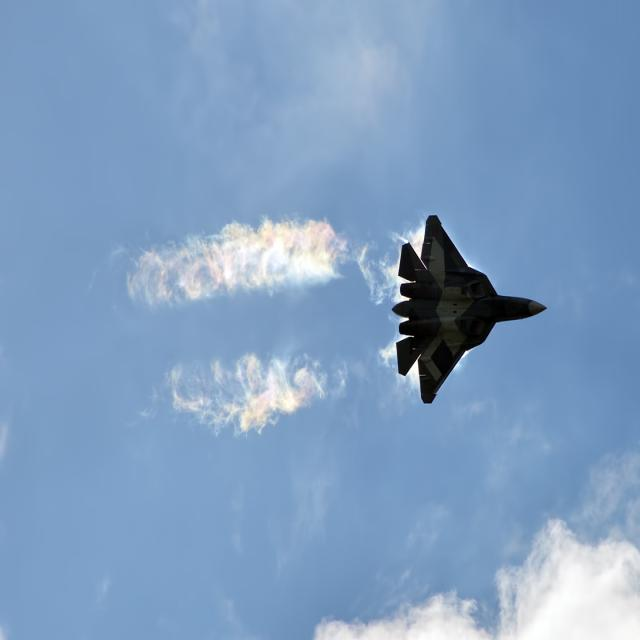MIL_Plane: (391, 214, 548, 404)
